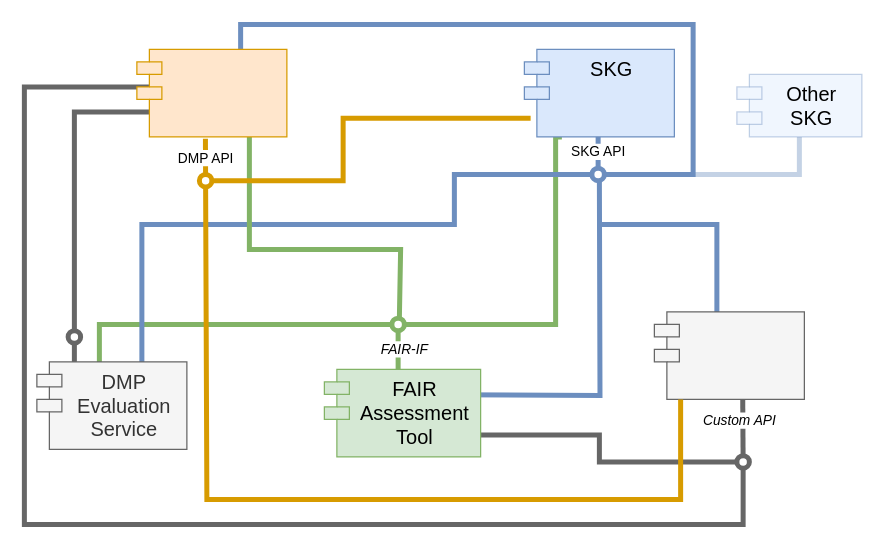
Image size: 884x549. Some labels were removed from this diagram. Each missing label, with the box of its shape:
Data Repository: (653, 311, 804, 399)
DMP Platform: (136, 48, 287, 137)
